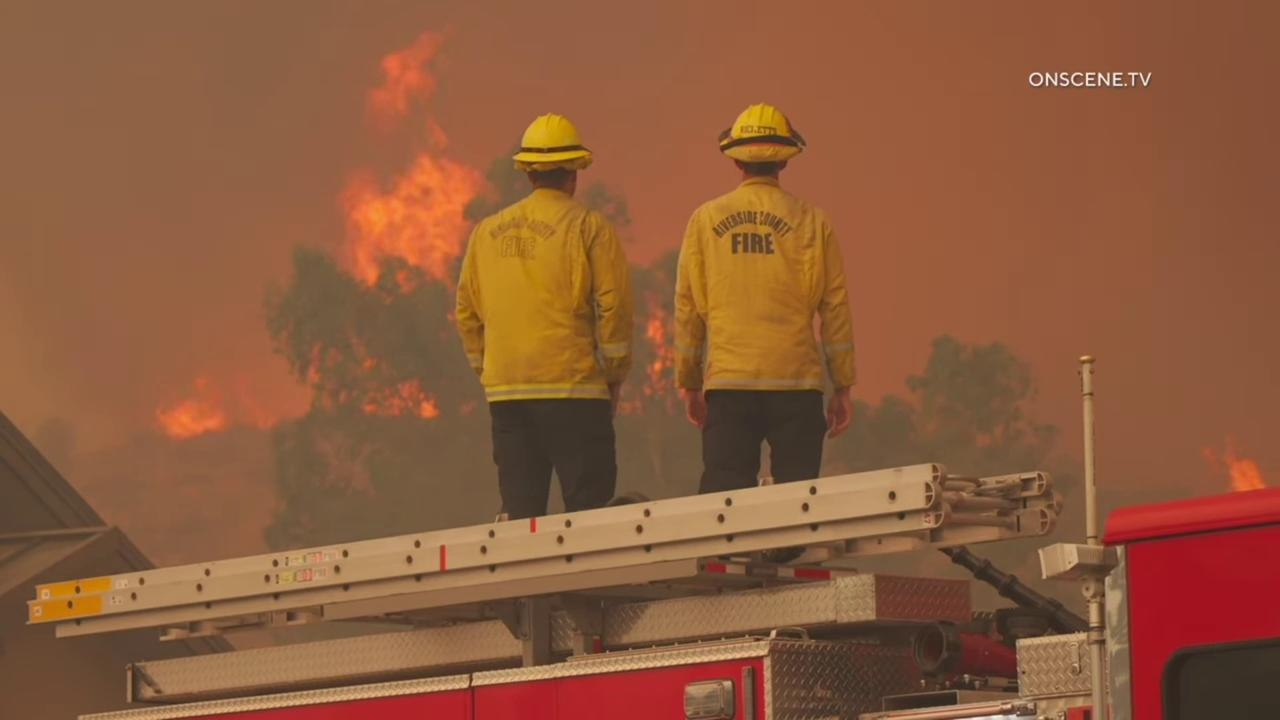fire: (302, 18, 504, 424), (157, 368, 282, 443), (635, 284, 676, 403), (1199, 434, 1267, 495)
smoke: (0, 0, 1280, 563)
